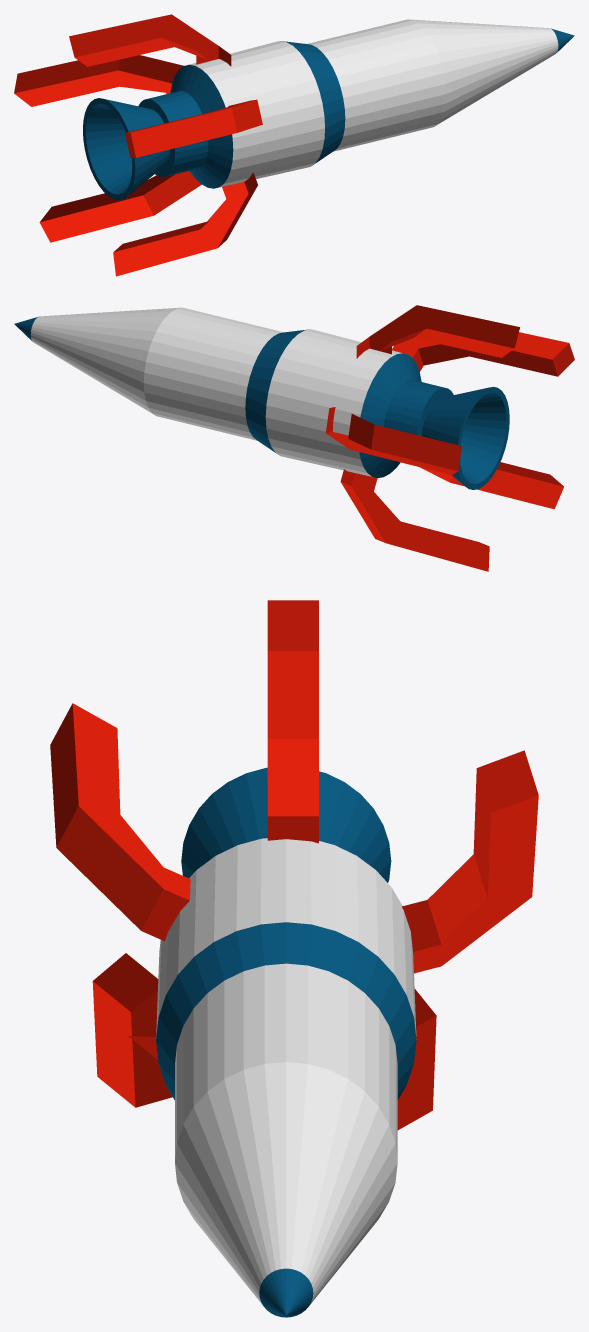
File: spread-main.glb
3 views of the same model, one above another, from view 1: azimuth 30°, elevation 25°; view 2: azimuth 150°, elevation 25°; view 3: azimuth 270°, elevation 25° (orthographic). The views are drawn at different scales.
Parts seen in each view (by area): view 1: Cone; view 2: Cone; view 3: Cone.
Part boxes in pixels (<box>): Cone: <box>14,14,574,276</box>; Cone: <box>14,305,574,571</box>; Cone: <box>50,600,538,1317</box>.
Size of the model in its own units: 4 by 1.69 by 1.7.
